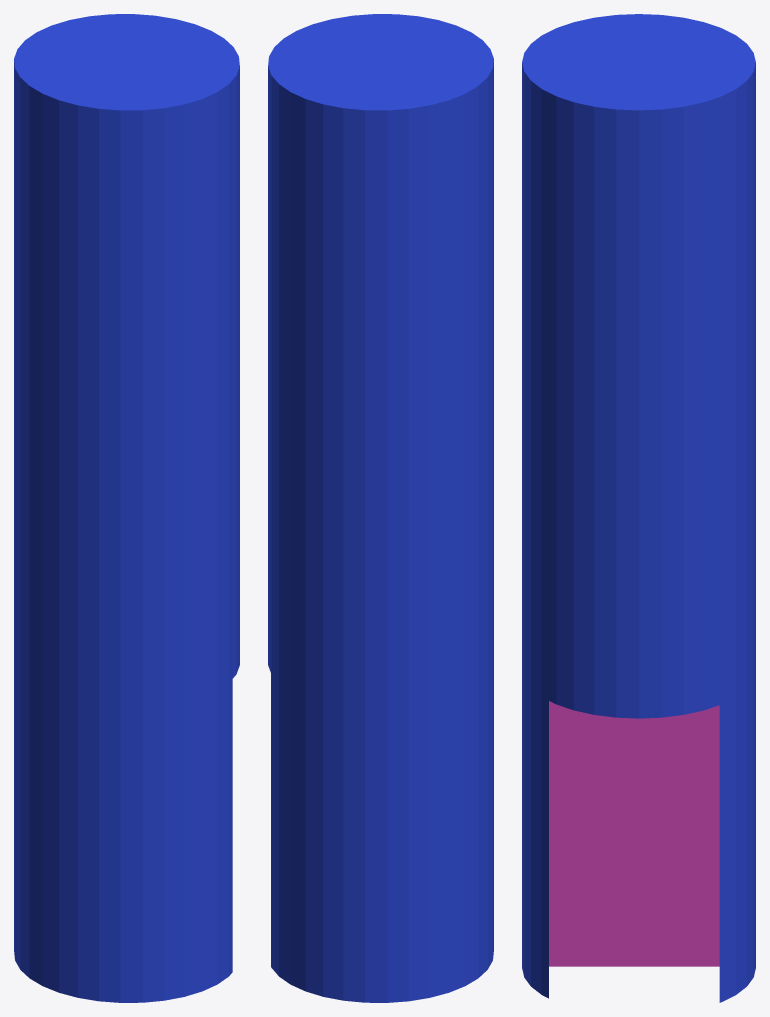
The picture shows the model from 3 angles, left to right: view 1: azimuth 30°, elevation 25°; view 2: azimuth 150°, elevation 25°; view 3: azimuth 270°, elevation 25°; orthographic projection.
Parts seen in each view (by area): view 1: Cylinder; view 2: Cylinder; view 3: Cylinder.
Part boxes in pixels (x1,y1,x2,y2): Cylinder: (14,14,239,1002); Cylinder: (268,14,493,1002); Cylinder: (522,14,755,1002).
Bounding box in the file's own units: 122 × 119 × 521.
